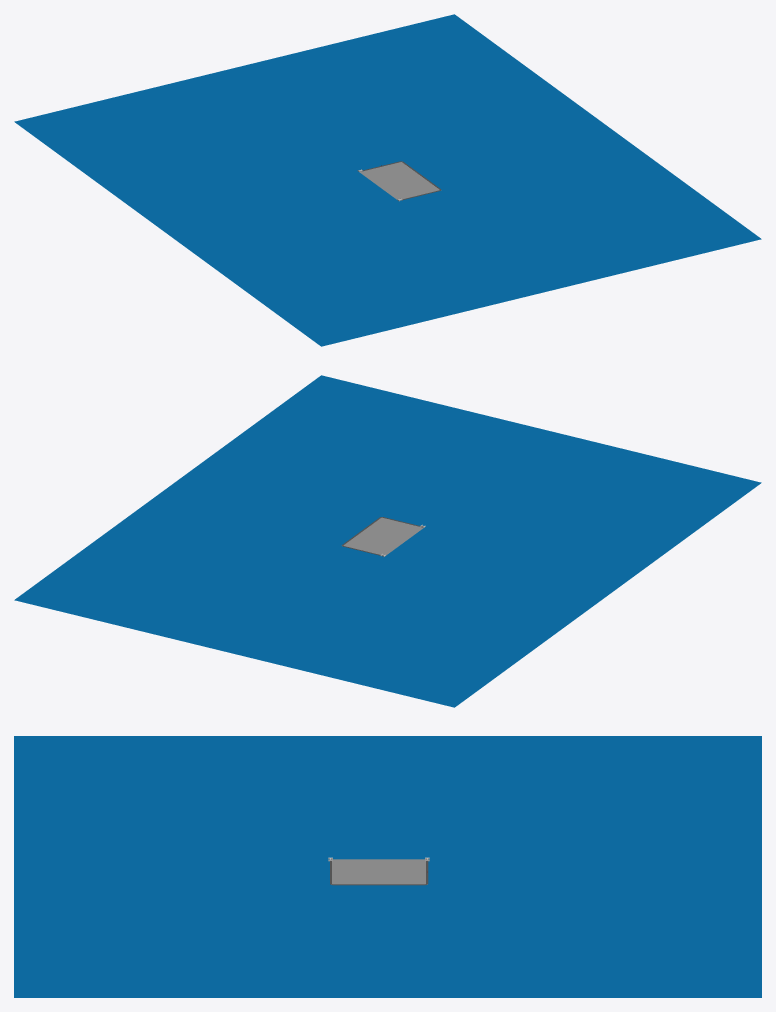
The model's file is Environment_Blockout.fbx.
3 views of the same model, one above another, from view 1: azimuth 30°, elevation 25°; view 2: azimuth 150°, elevation 25°; view 3: azimuth 270°, elevation 25° (orthographic). The views are drawn at different scales.
Parts seen in each view (by area): view 1: 00_Roof; view 2: 00_Roof; view 3: 00_Roof.
Boxes of the visible parts, x1,y1,x2,y2 form: 00_Roof: (14,14,761,346); 00_Roof: (14,375,761,707); 00_Roof: (14,736,761,997).
Size of the model in its own units: 11537 by 1057 by 13937.
